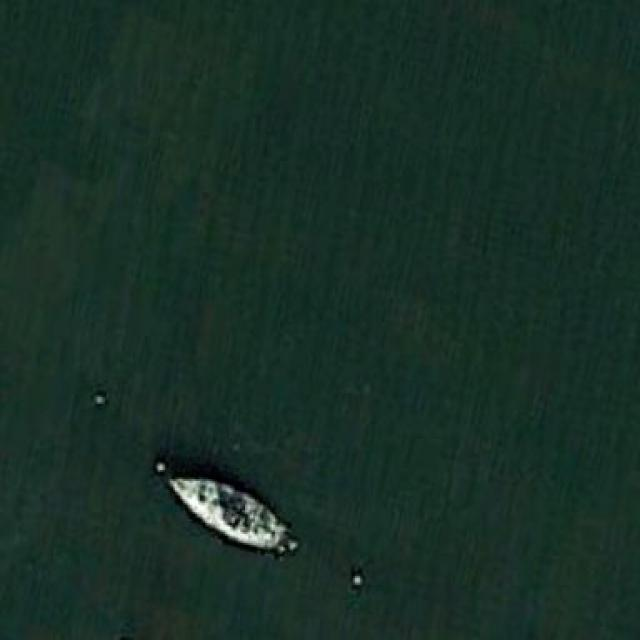ship: (160, 472, 292, 552)
